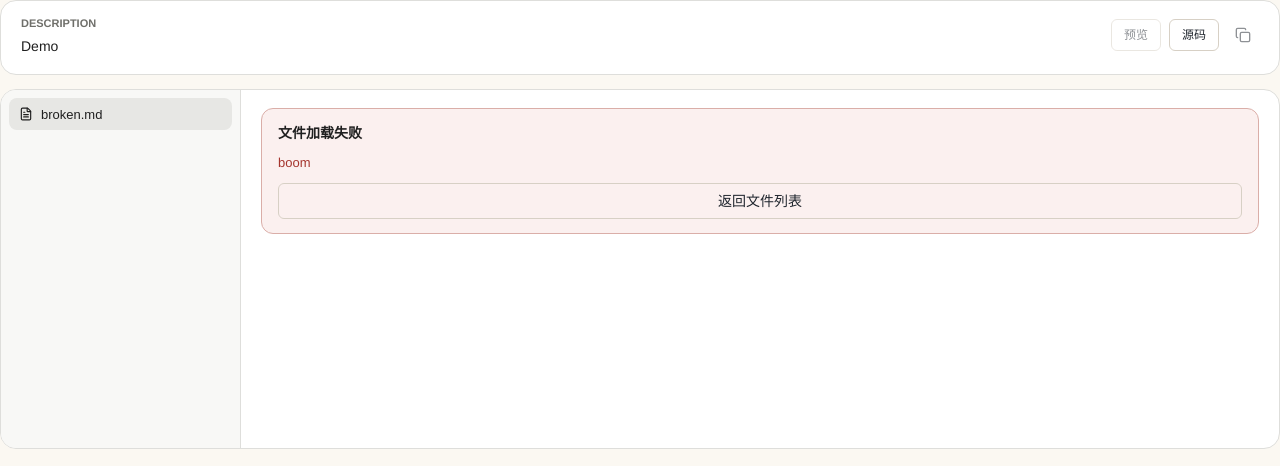
it: MarkdownPreview › shows an error state with a return button when file loading fails
Check: the text "文件加载失败" is shown, box top-left (278, 125), bottom-right (362, 141)
Check: the text "boom" is shown, box top-left (278, 155), bottom-right (310, 170)
Click the button "返回文件列表": (760, 201) top-left (278, 183), bottom-right (1242, 219)
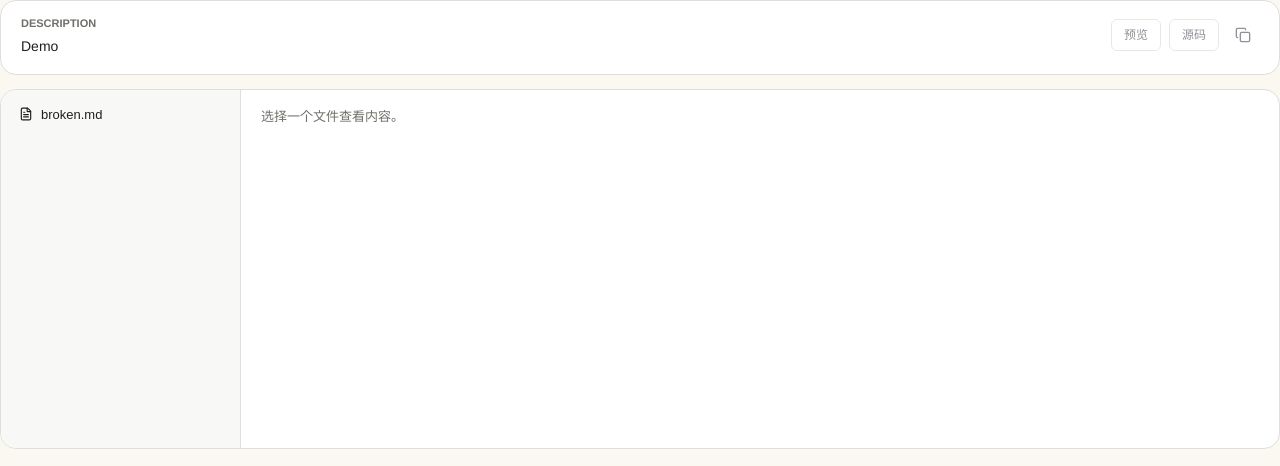
Check: the text "选择一个文件查看内容。" is shown, box top-left (261, 109), bottom-right (404, 124)
